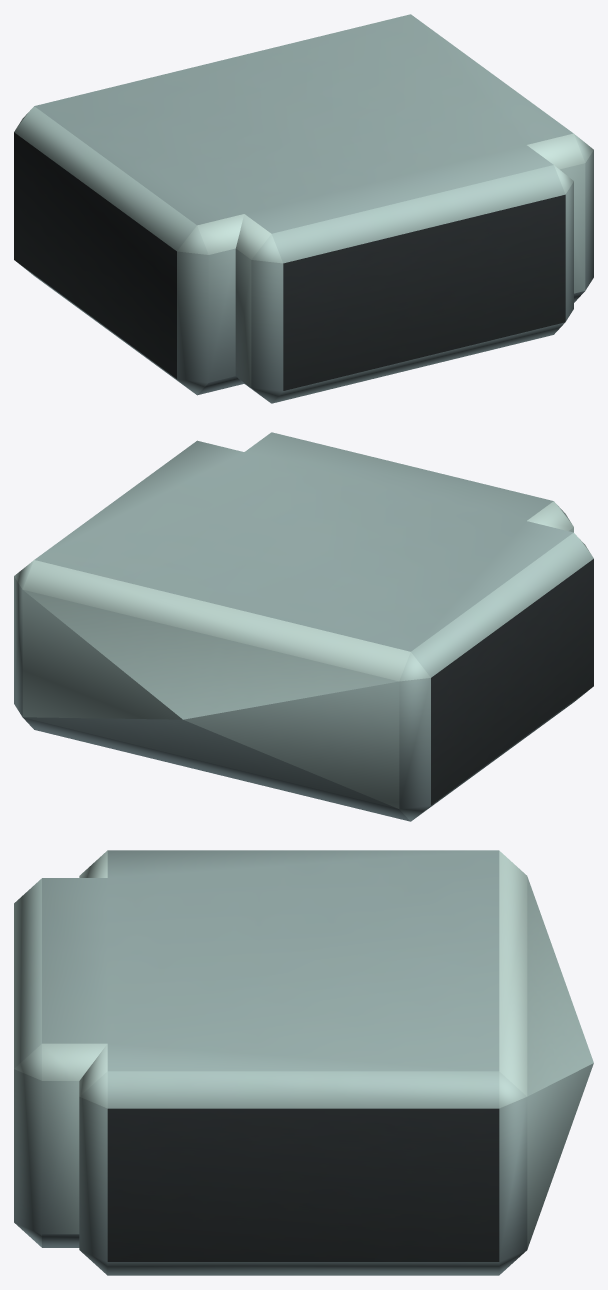
The model's file is air_duct_T.fbx.
3 renders of one model, top to bottom at view 1: azimuth 30°, elevation 25°; view 2: azimuth 150°, elevation 25°; view 3: azimuth 270°, elevation 25°, orthographic. The views are drawn at different scales.
Visible parts, largest first — view 1: air_duct_T; view 2: air_duct_T; view 3: air_duct_T.
Boxes of the visible parts, bbox=[...] form: air_duct_T: bbox=[14, 14, 593, 403]; air_duct_T: bbox=[14, 432, 593, 821]; air_duct_T: bbox=[14, 850, 593, 1275].
Size of the model in its own units: 105 by 40.92 by 105.
